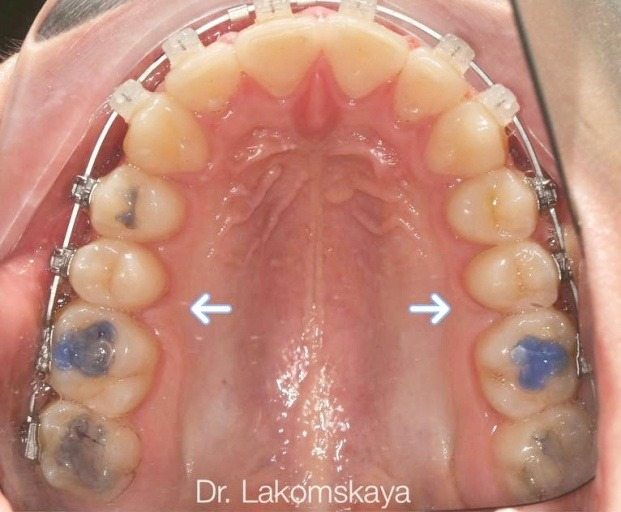UL1BC_healthy: (448, 169, 530, 244)
UL1M_decay: (475, 311, 575, 419)
UL2BC_healthy: (466, 245, 551, 310)
UL2M_decay: (497, 401, 594, 502)
ULCI_healthy: (322, 18, 406, 96)
ULC_healthy: (429, 110, 502, 177)
ULLI_healthy: (397, 58, 463, 121)
UR1BC_decay: (93, 169, 186, 242)
UR1M_decay: (52, 305, 157, 413)
UR2BC_healthy: (71, 242, 162, 309)
UR2M_decay: (42, 400, 138, 499)
URCI_healthy: (239, 17, 321, 94)
URC_healthy: (128, 104, 207, 175)
URLI_healthy: (168, 56, 241, 114)
